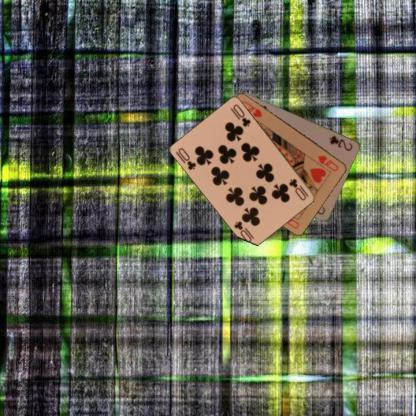10c: (286, 176, 310, 202), (176, 146, 198, 172)
2c: (327, 133, 354, 152)
Qh: (315, 152, 340, 172)
